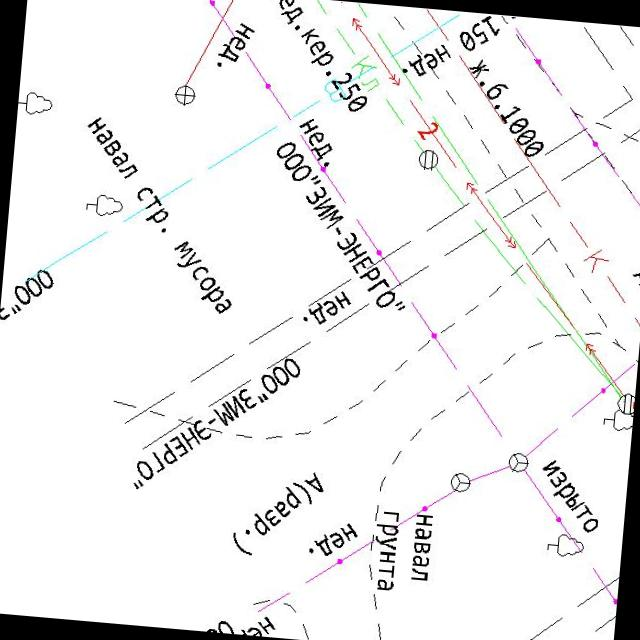tree: (544, 532, 586, 560), (83, 192, 124, 218)
well: (172, 82, 197, 108), (448, 470, 473, 496), (505, 450, 532, 474), (416, 146, 440, 172)
